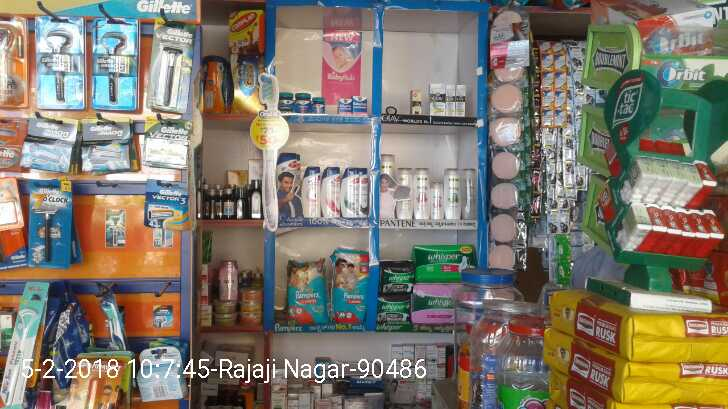beauty: (31, 3, 80, 111), (86, 19, 140, 111), (143, 20, 194, 113), (26, 179, 73, 262), (17, 122, 71, 180), (140, 184, 199, 235), (140, 117, 188, 169), (81, 128, 131, 171), (337, 164, 366, 219), (394, 166, 414, 218), (304, 165, 321, 223), (322, 162, 339, 219), (445, 167, 462, 222), (413, 169, 430, 220), (446, 85, 467, 120), (427, 85, 446, 121), (431, 181, 446, 219), (407, 92, 422, 113)
pharmacy: (329, 250, 367, 331), (411, 242, 476, 282), (285, 262, 326, 325), (408, 282, 467, 323), (377, 260, 419, 292), (377, 293, 409, 327), (294, 84, 309, 115), (276, 89, 293, 114), (333, 94, 350, 116), (309, 95, 326, 114), (352, 96, 365, 118)
